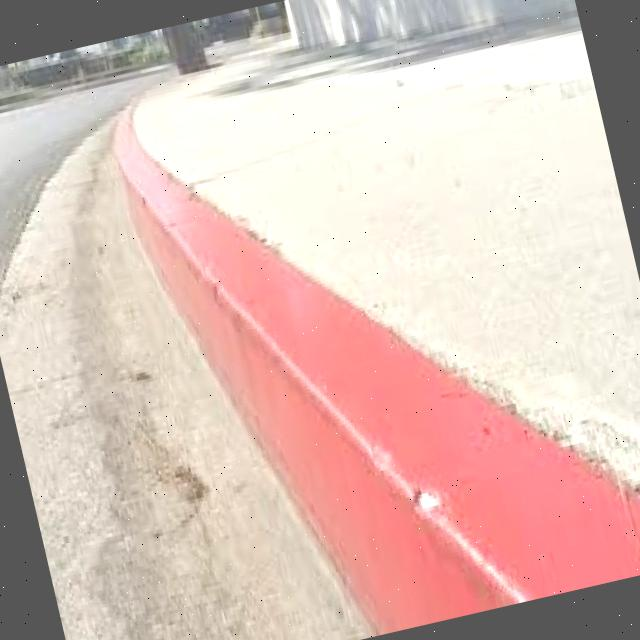curb: (209, 209, 534, 515), (297, 402, 640, 640), (103, 155, 299, 354), (101, 112, 179, 200)
